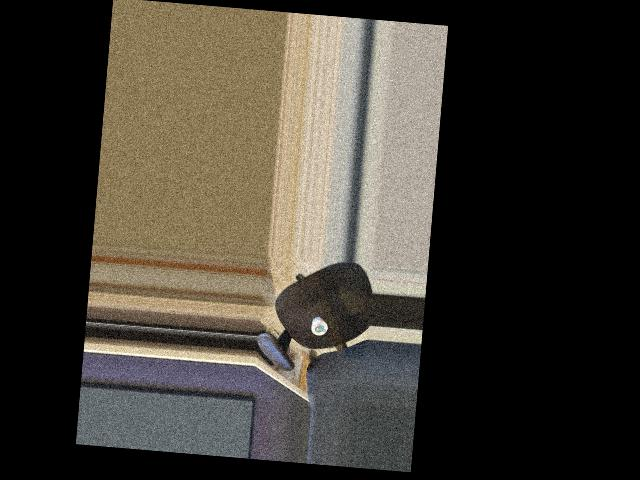cotage: (310, 312, 332, 337)
